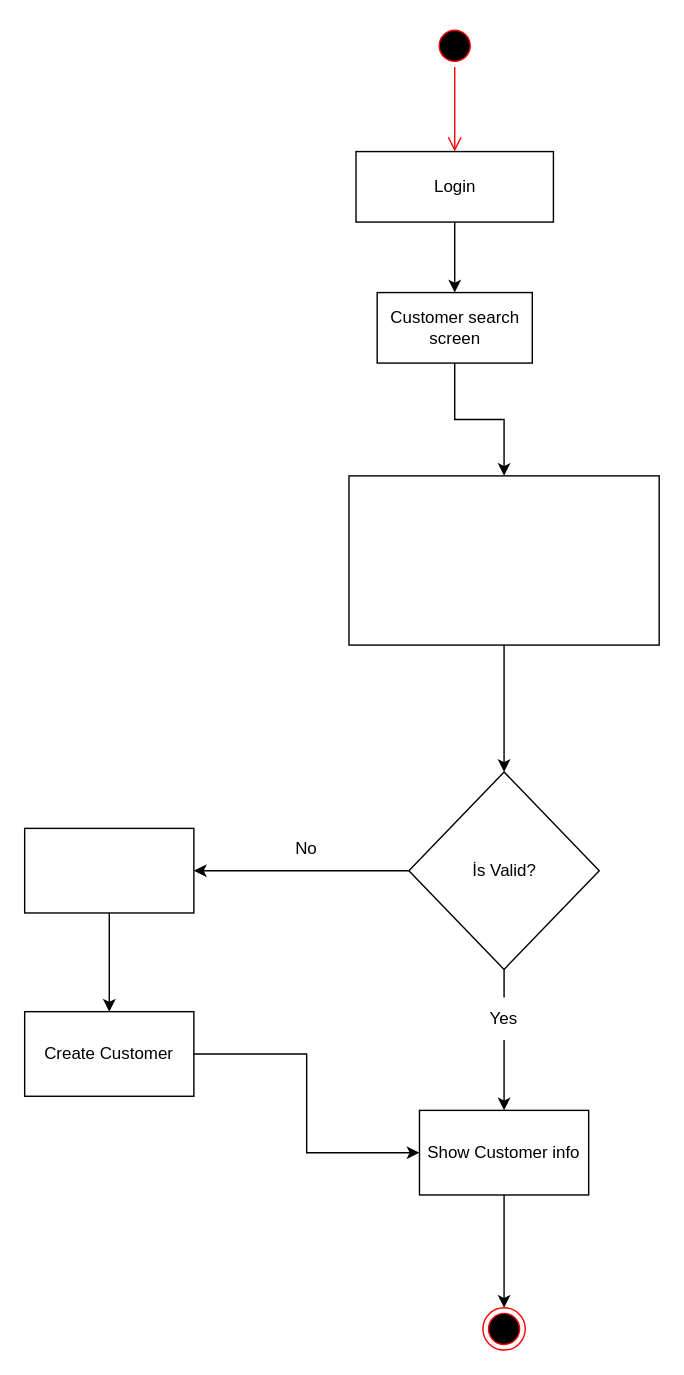
Image size: 684x1375. Some labels were removed from this diagram. Each missing label, with the box of its shape:
Customer not found Would you like to create the customer?: (23, 827, 194, 913)
Search filter Customer_id: (348, 474, 659, 645)
